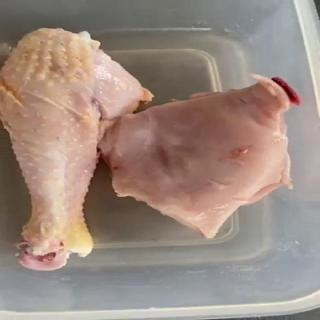Ayam: (1, 28, 156, 272), (97, 73, 302, 239)
